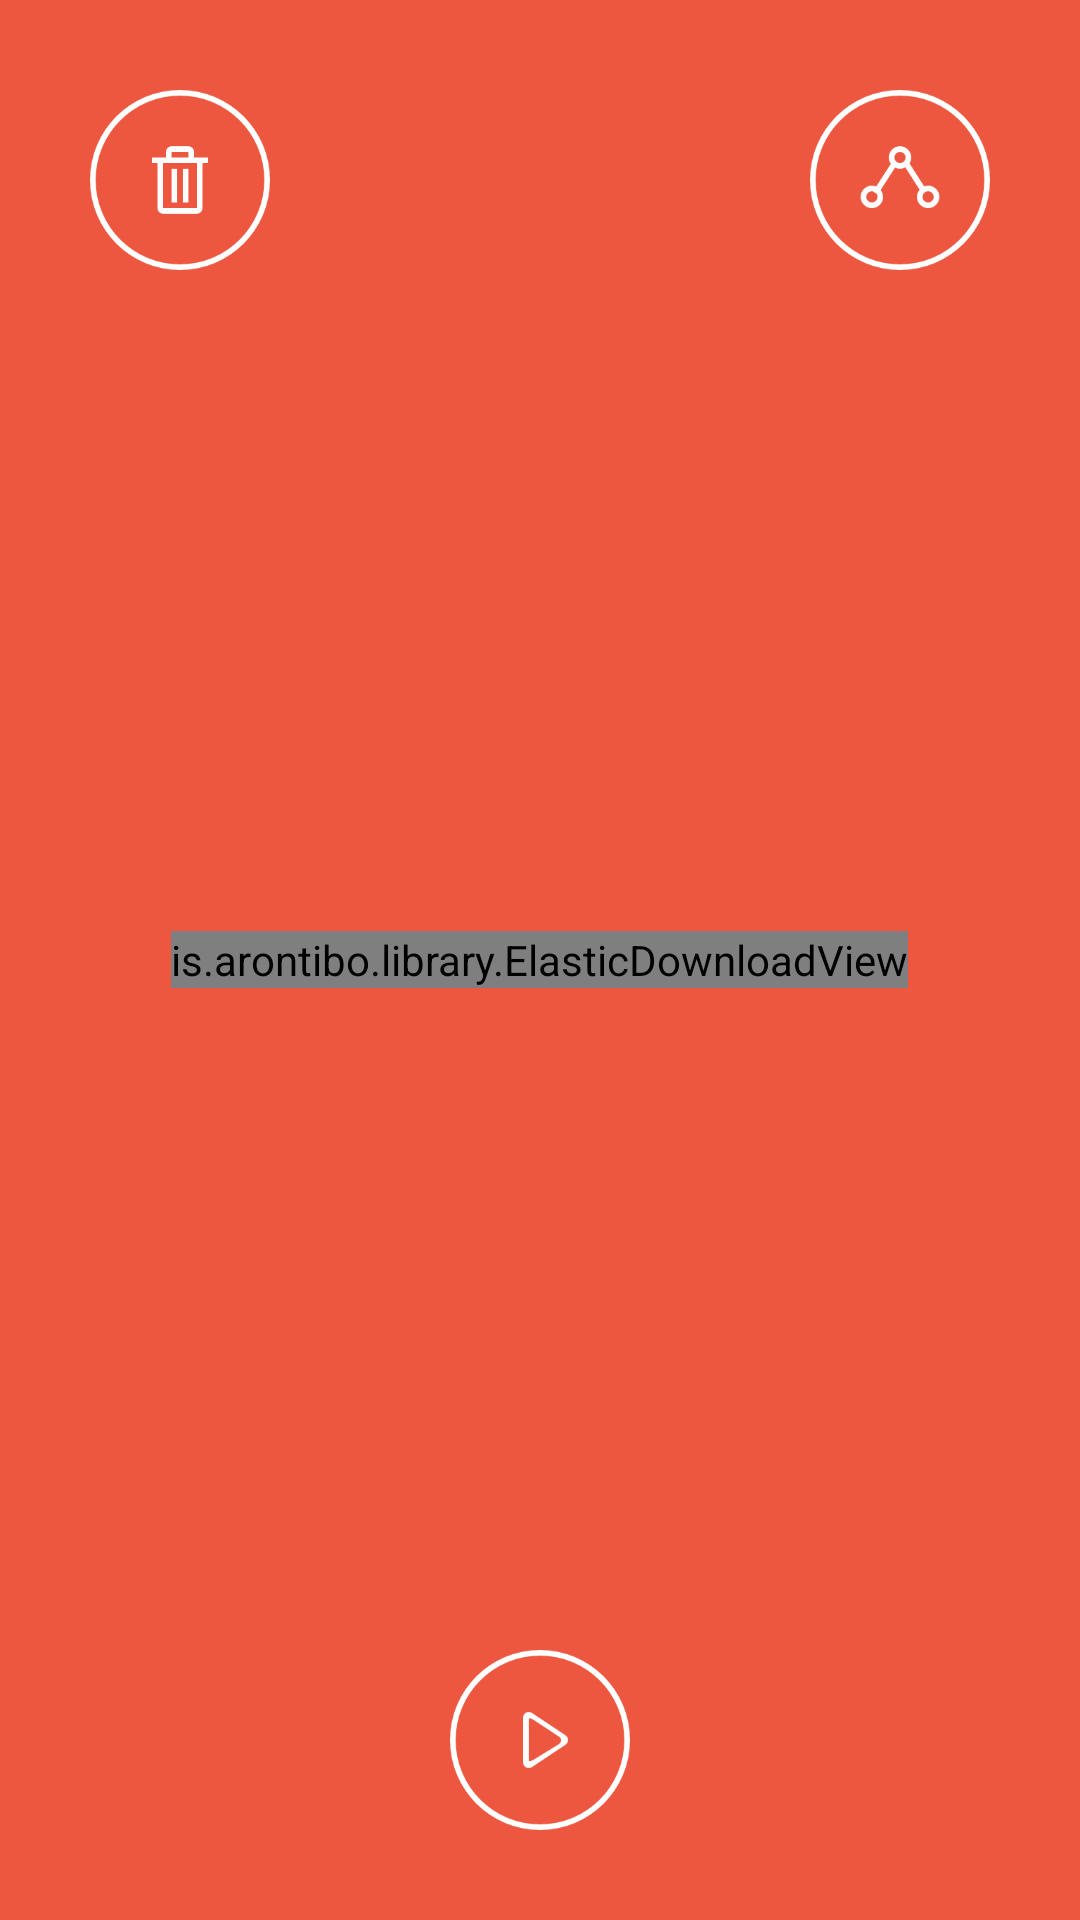

Point at icon controls on the screen. Image size 1080px×1920px, points as [x,y].
download detail delete: [180,180]
download detail resume: [540,1740]
download detail share: [900,180]
